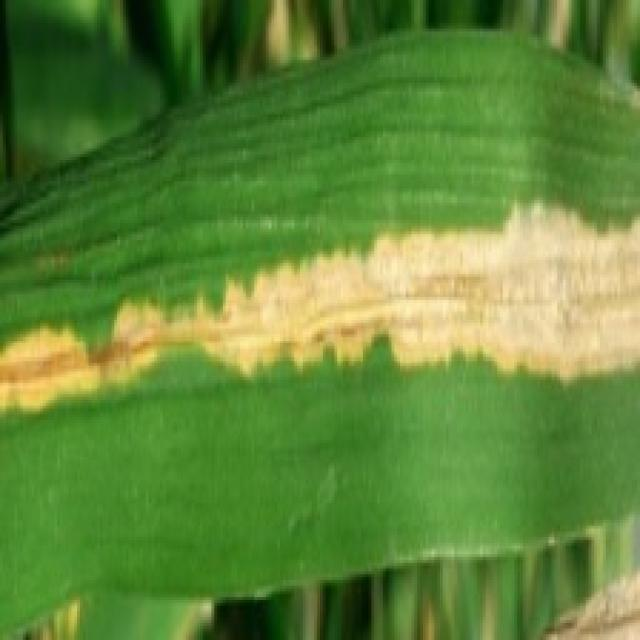Rice___Bacterial_Leaf_Blight: (0, 24, 637, 637)
